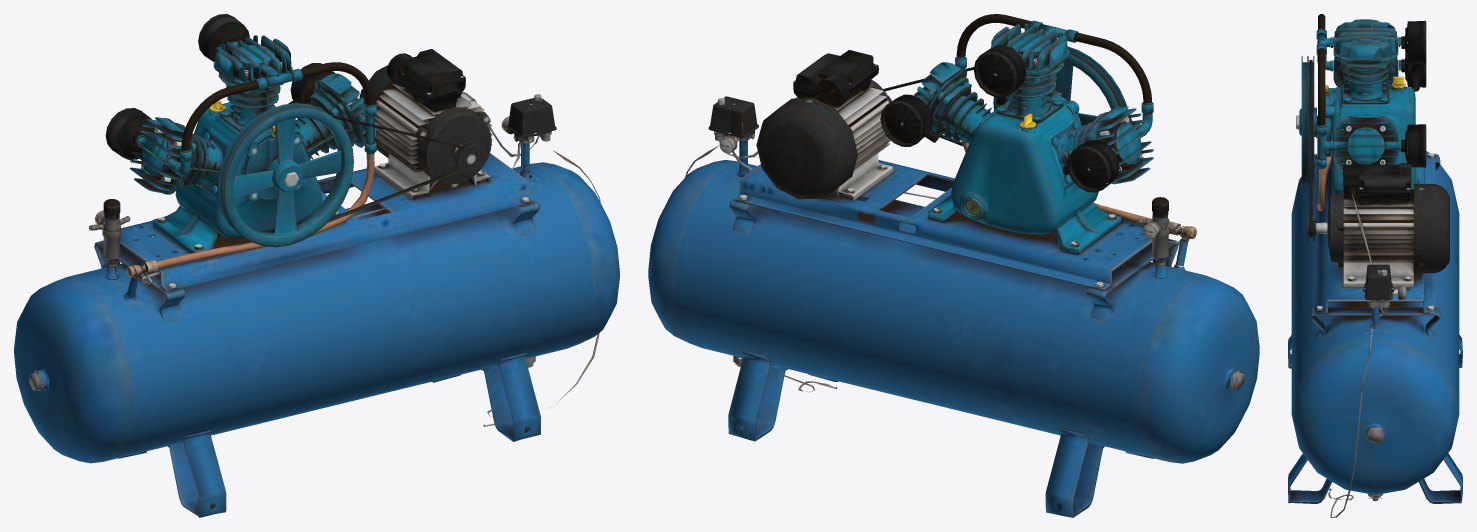
The model's file is compressor.glb.
3 renders of one model, left to right at view 1: azimuth 30°, elevation 25°; view 2: azimuth 150°, elevation 25°; view 3: azimuth 270°, elevation 25°, orthographic. The views are drawn at different scales.
Parts seen in each view (by area): view 1: Compressor, Wheel__0, Belt__0, Engine_Drive_Shaft__0; view 2: Compressor, Wheel__0; view 3: Compressor, Wheel__0, Belt__0, Engine_Drive_Shaft__0.
Boxes of the visible parts, box(x1,y1,x2,y2) form: Compressor: box(14, 14, 619, 517); Wheel__0: box(217, 103, 353, 247); Belt__0: box(327, 115, 464, 222); Engine_Drive_Shaft__0: box(454, 141, 484, 173); Compressor: box(648, 14, 1259, 517); Wheel__0: box(993, 46, 1127, 125); Compressor: box(1288, 14, 1462, 517); Wheel__0: box(1296, 56, 1339, 188); Belt__0: box(1309, 60, 1312, 237); Engine_Drive_Shaft__0: box(1307, 214, 1327, 241).
Size of the model in its own units: 1.56 by 1.12 by 0.4703.
1 material, 1 textured.
